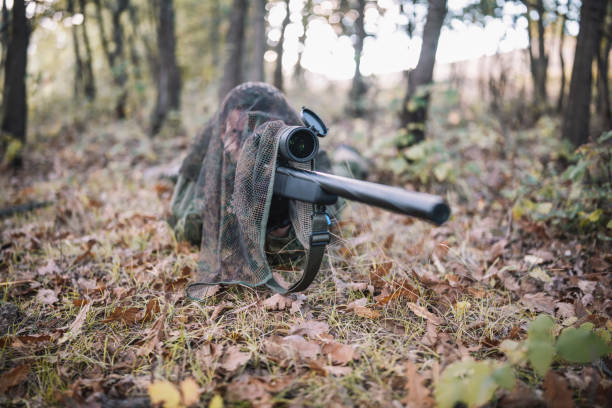gun: (267, 104, 451, 224)
